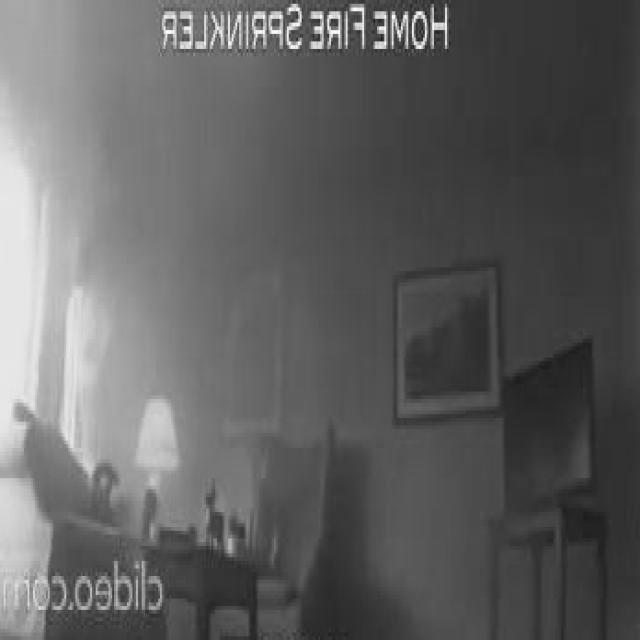smoke: (64, 290, 103, 467)
